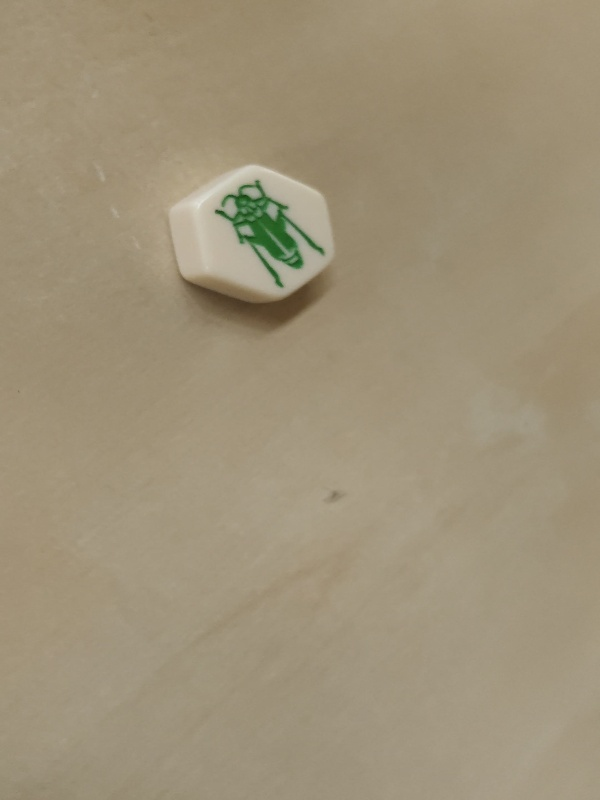white_grasshopper: (166, 165, 335, 316)
